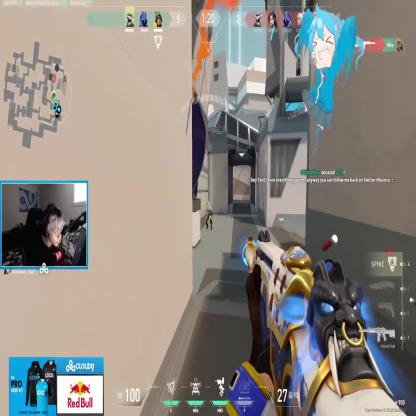enemy: (205, 202, 213, 230)
enemy_head: (208, 202, 210, 208)
